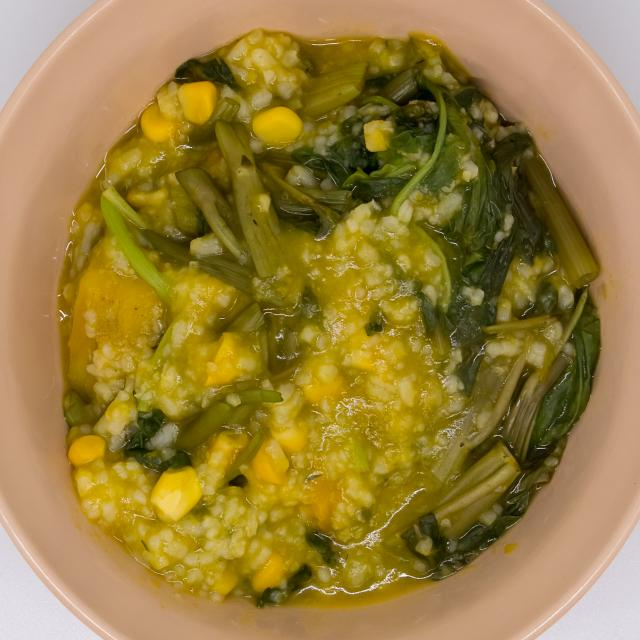Bubur-Manado: (46, 18, 612, 613)
